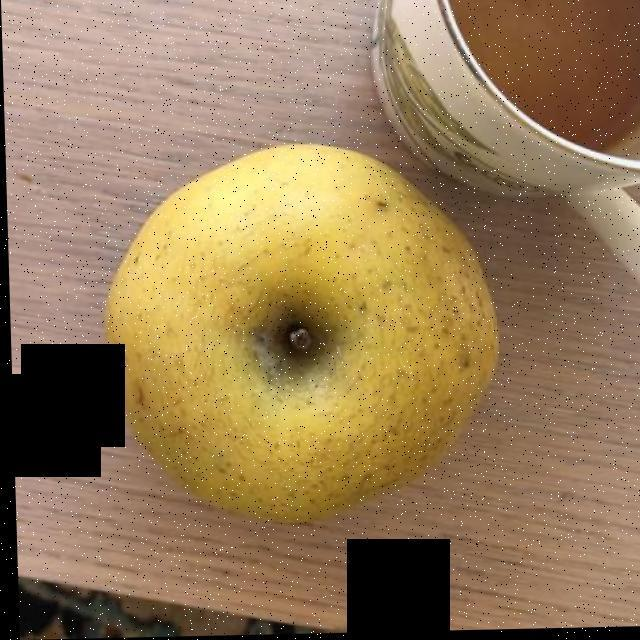apple: (107, 151, 489, 521)
